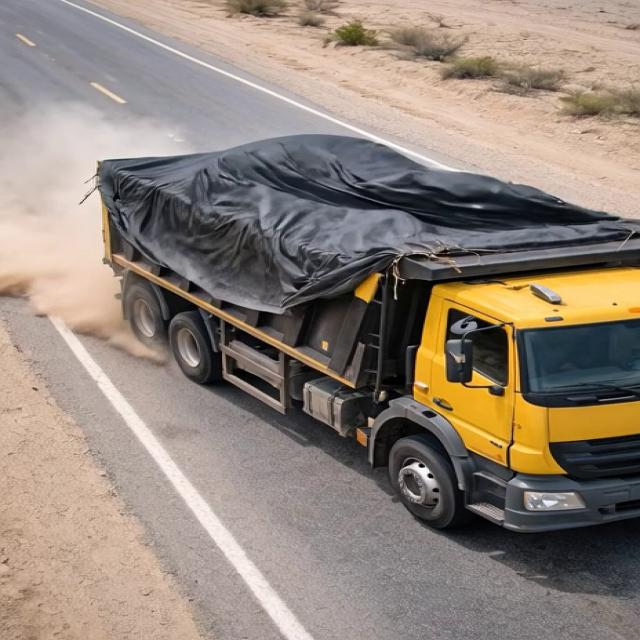trailer: (96, 138, 636, 279)
truck: (69, 129, 640, 535)
